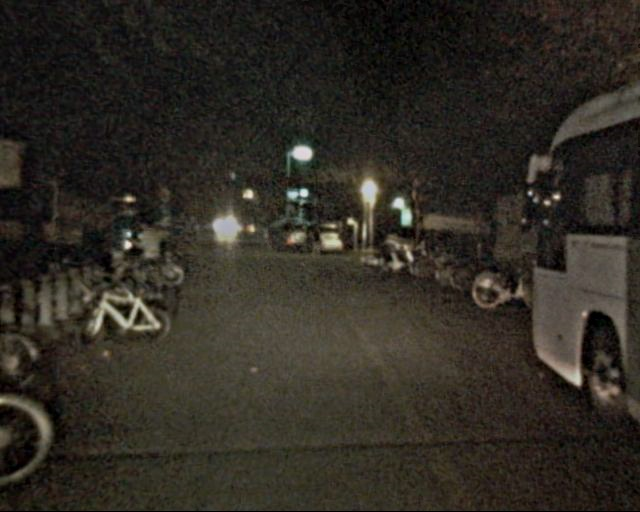person: (134, 218, 166, 297), (308, 223, 325, 264), (264, 223, 278, 258)
